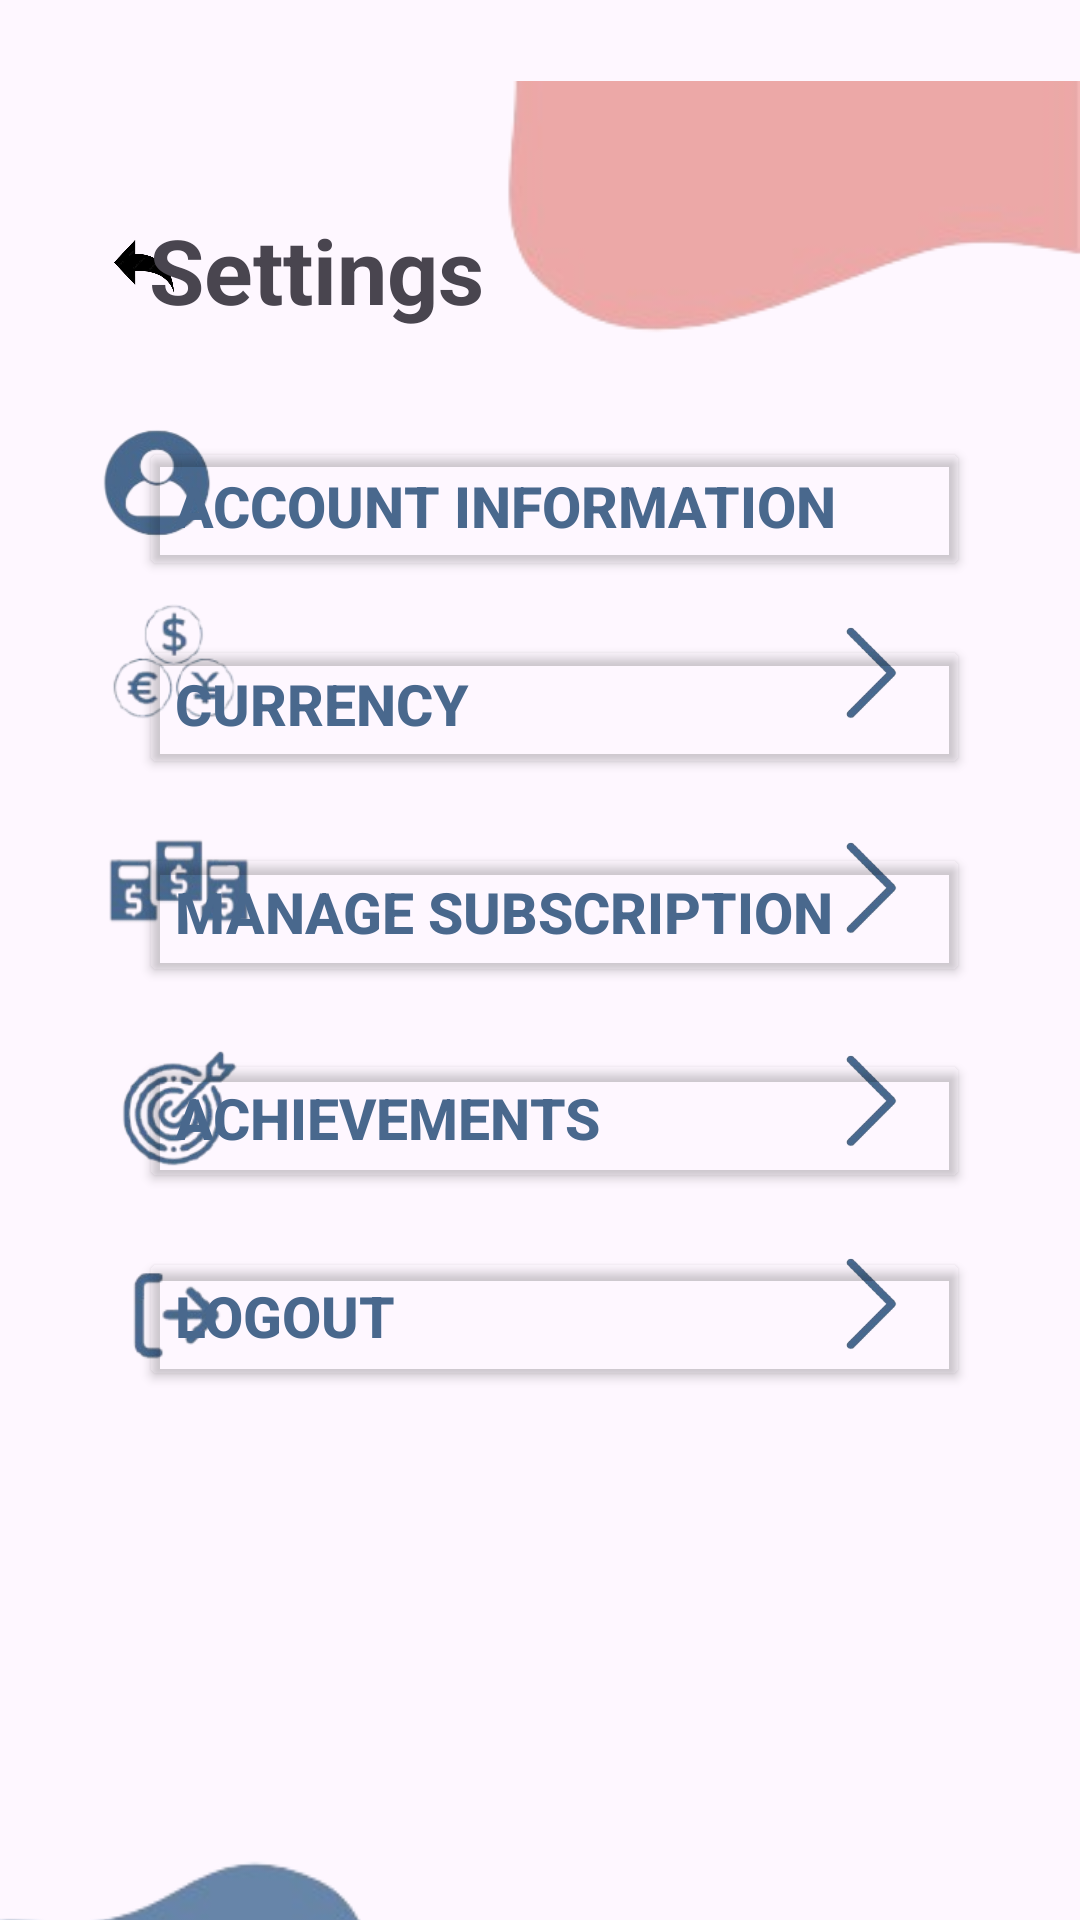

Locate icon controls on the screen. Image size 1080 x 1920, boxes as {"left": x1, "top": y1, "right": x2, "bottom": y2}.
arrow: {"left": 810, "top": 628, "right": 927, "bottom": 718}, {"left": 810, "top": 843, "right": 927, "bottom": 934}, {"left": 810, "top": 1056, "right": 927, "bottom": 1171}, {"left": 810, "top": 1259, "right": 927, "bottom": 1374}
